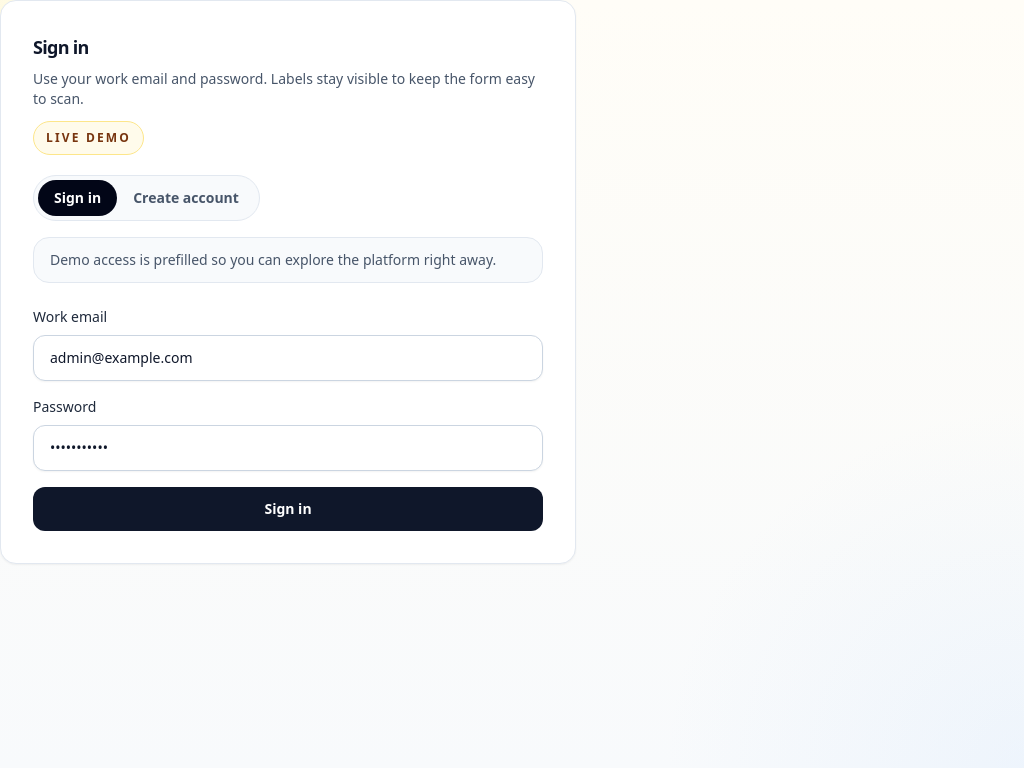
Test: LoginForm › shows account creation fields when register mode is selected
The width and height of the screenshot is (1024, 768).
Step 1. Click the button "Create account" → (186, 198), box [117,180,255,216]
(page scrolled)
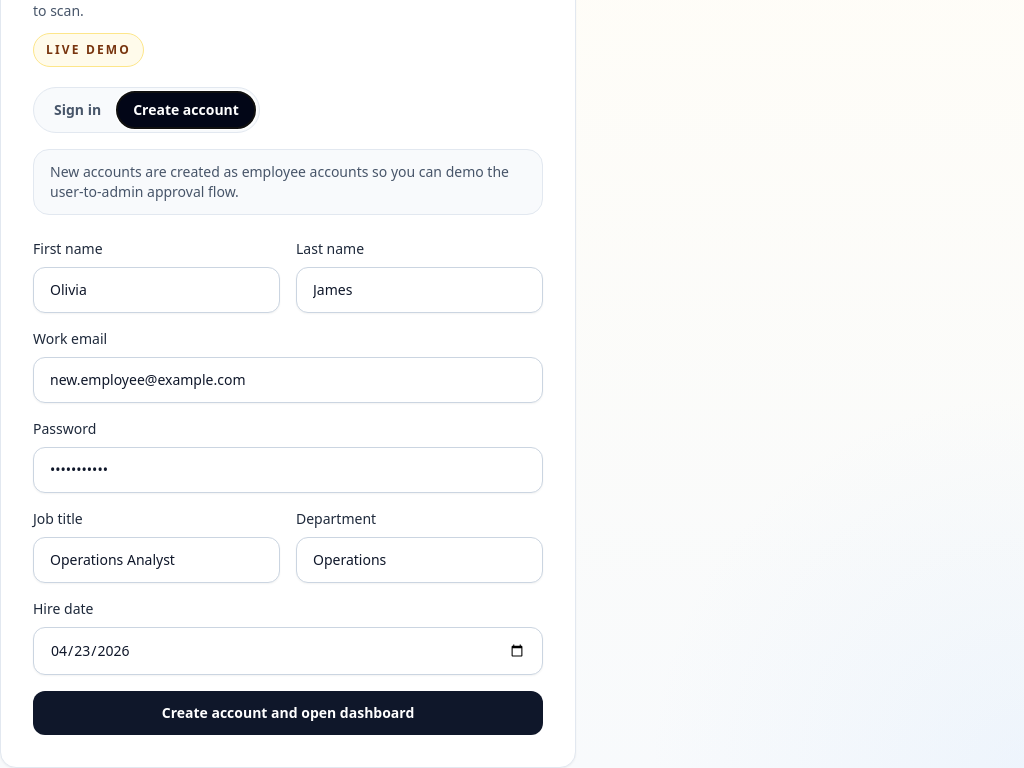
Expected: the field labelled "First name" is shown, [33,267,280,313]
Expected: the field labelled "Last name" is shown, [296,267,543,313]
Expected: the field labelled "Job title" is shown, [33,537,280,583]
